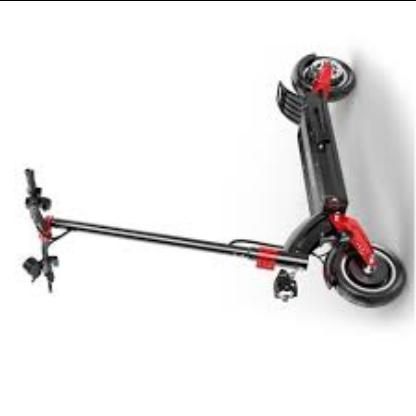bike: (14, 52, 407, 309), (230, 55, 407, 309)
